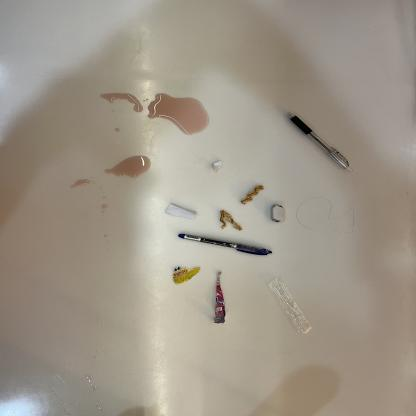dirty: (268, 277, 313, 334), (214, 271, 225, 324), (174, 266, 201, 285), (165, 203, 197, 219), (240, 185, 264, 206), (220, 209, 242, 231), (212, 160, 223, 174)
liquid: (147, 93, 209, 135), (105, 156, 151, 178), (101, 93, 144, 112), (94, 400, 117, 412), (70, 180, 96, 190), (52, 372, 67, 386), (87, 373, 98, 391), (67, 403, 84, 411), (104, 233, 111, 252), (92, 350, 100, 364), (100, 211, 108, 224), (54, 394, 63, 405), (62, 408, 71, 415), (101, 195, 107, 201), (102, 204, 107, 209), (116, 128, 120, 132)
